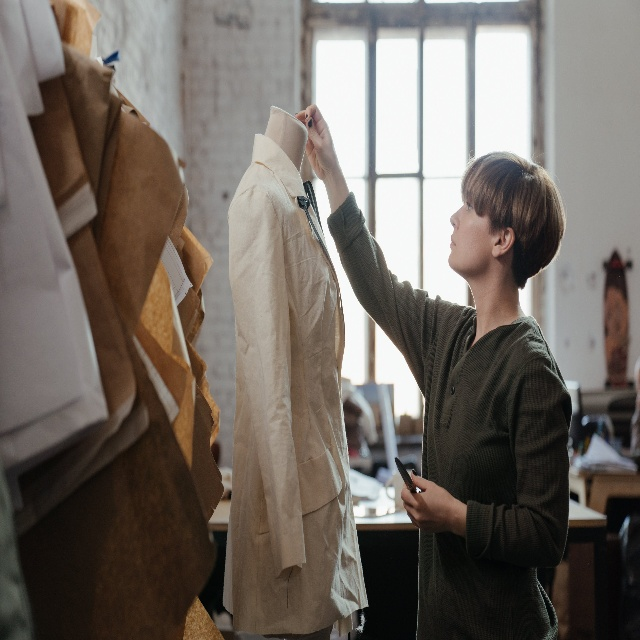Sin_guantes: (400, 468, 453, 534), (294, 103, 337, 181)
